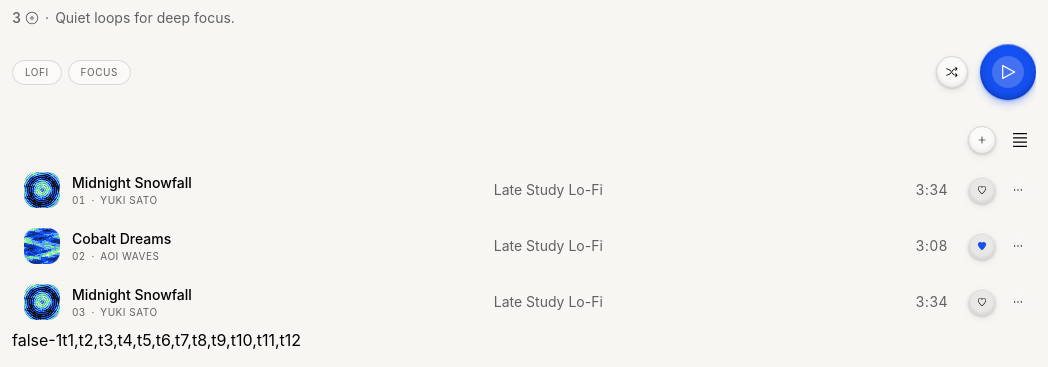
CollectionDetail › shuffle (positional list) › shuffles the whole positional list and starts that remembered order
This screenshot has width=1048, height=367.
Click the button named "Shuffle collection" at (952, 72), box x1=936 y1=56 x2=968 y2=88
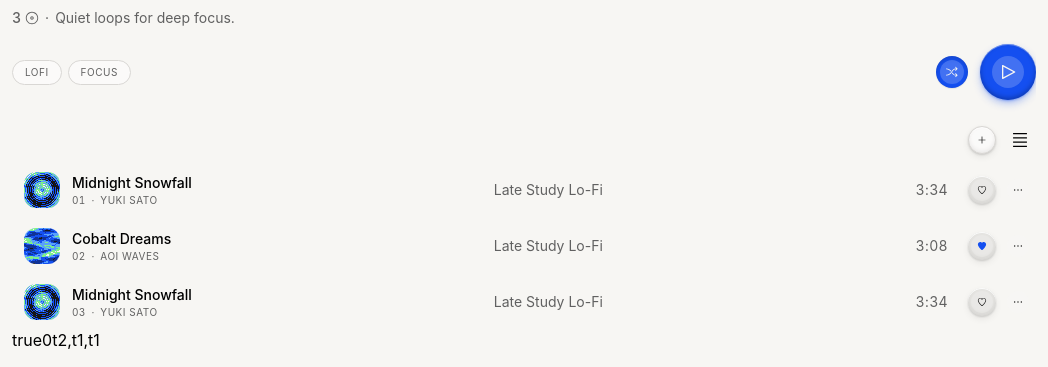
Now the text with test id "shuffle-state" reads "true", box x1=12 y1=330 x2=42 y2=350
Now the text with test id "shuffle-index" reads "0", box x1=42 y1=330 x2=52 y2=350
